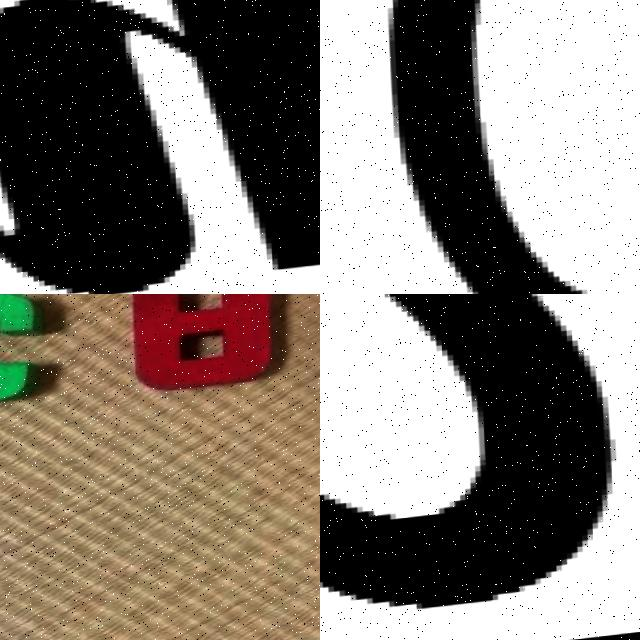0: (368, 0, 640, 294)
2: (320, 294, 637, 639)
A: (135, 294, 269, 397)
C: (0, 294, 44, 414)
Y: (0, 0, 320, 294)
